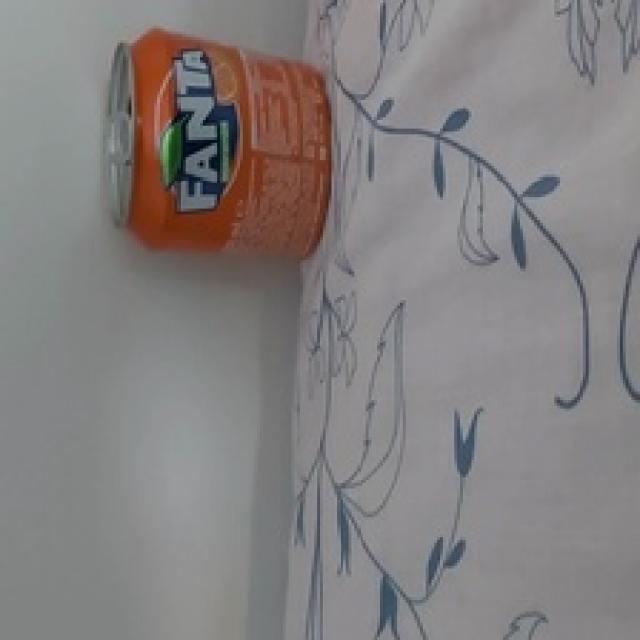recyclable: (102, 25, 340, 264)
